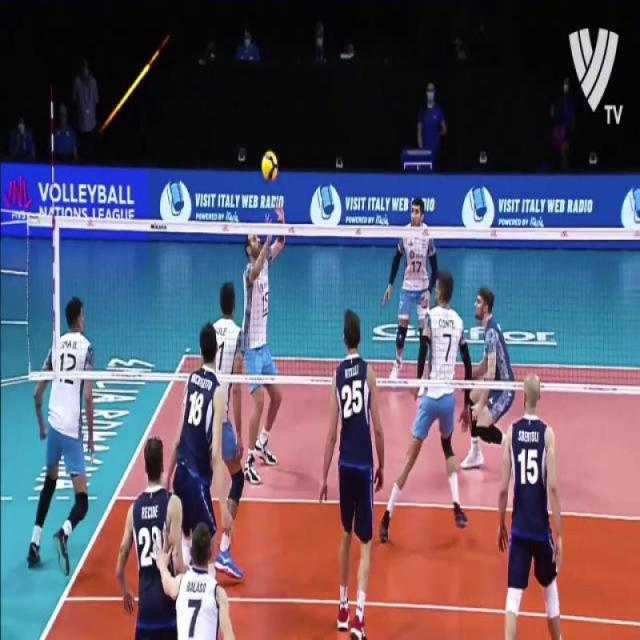volleyball: (259, 151, 279, 182)
